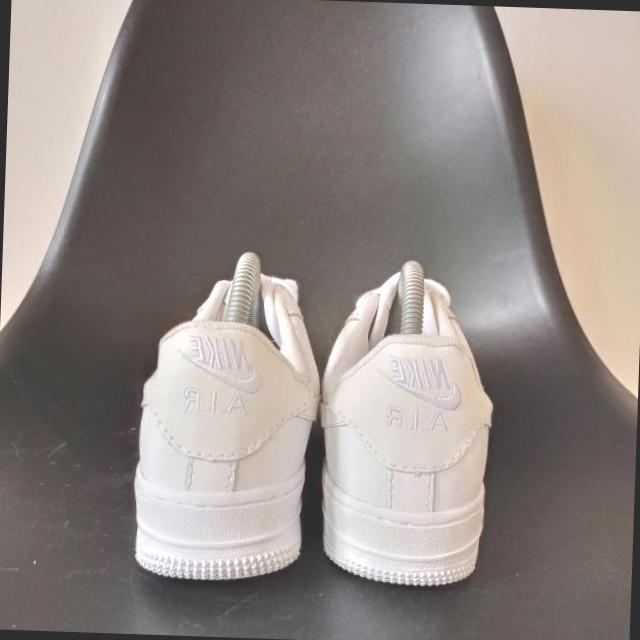nike_fake_airforce: (126, 246, 324, 586), (307, 257, 494, 588)
